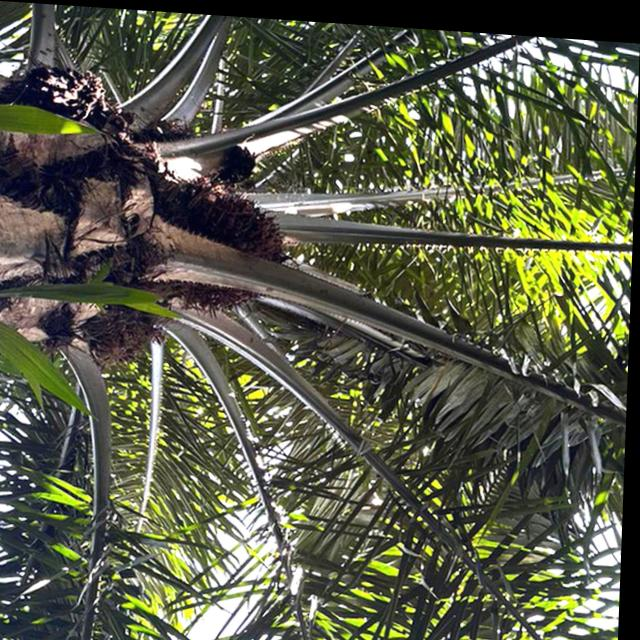ripe: (153, 182, 288, 319)
